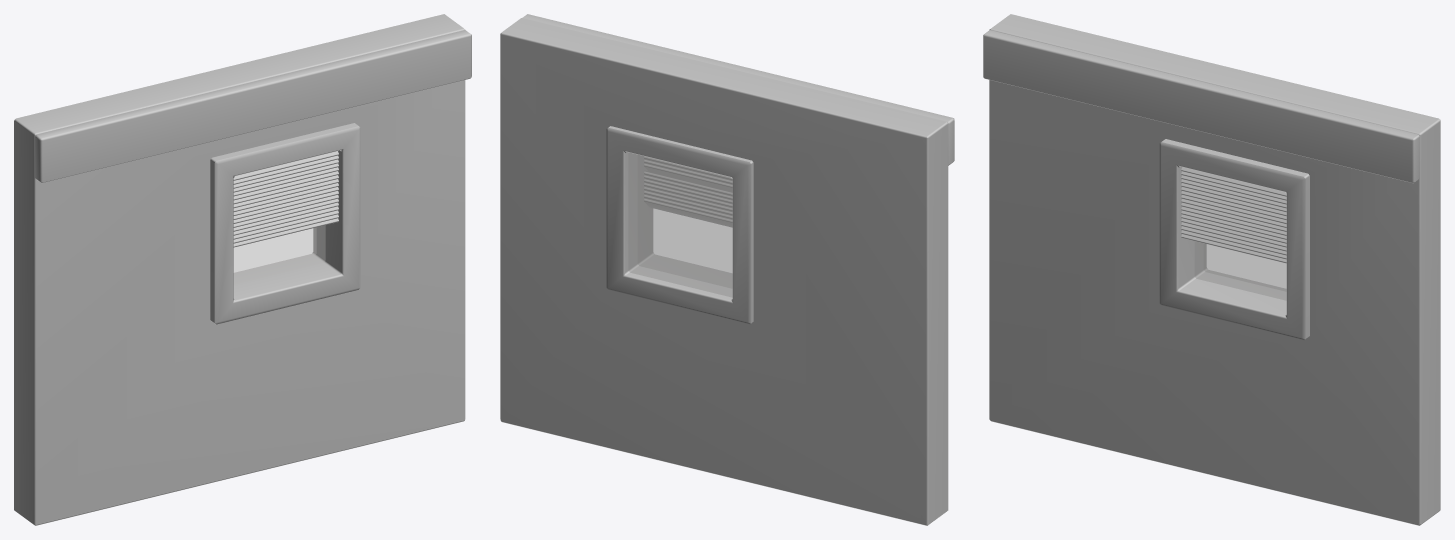
The model's file is Wall_58.fbx.
The picture shows the model from 3 angles, left to right: view 1: azimuth 30°, elevation 25°; view 2: azimuth 150°, elevation 25°; view 3: azimuth 330°, elevation 25°; orthographic projection.
Visible parts, largest first — view 1: Wall_58; view 2: Wall_58; view 3: Wall_58.
Boxes of the visible parts, x1=… form: Wall_58: x1=14, y1=14, x2=471, y2=525; Wall_58: x1=500, y1=14, x2=954, y2=525; Wall_58: x1=983, y1=14, x2=1440, y2=525.
Bounding box in the file's own units: 460 × 400 × 58.05.
